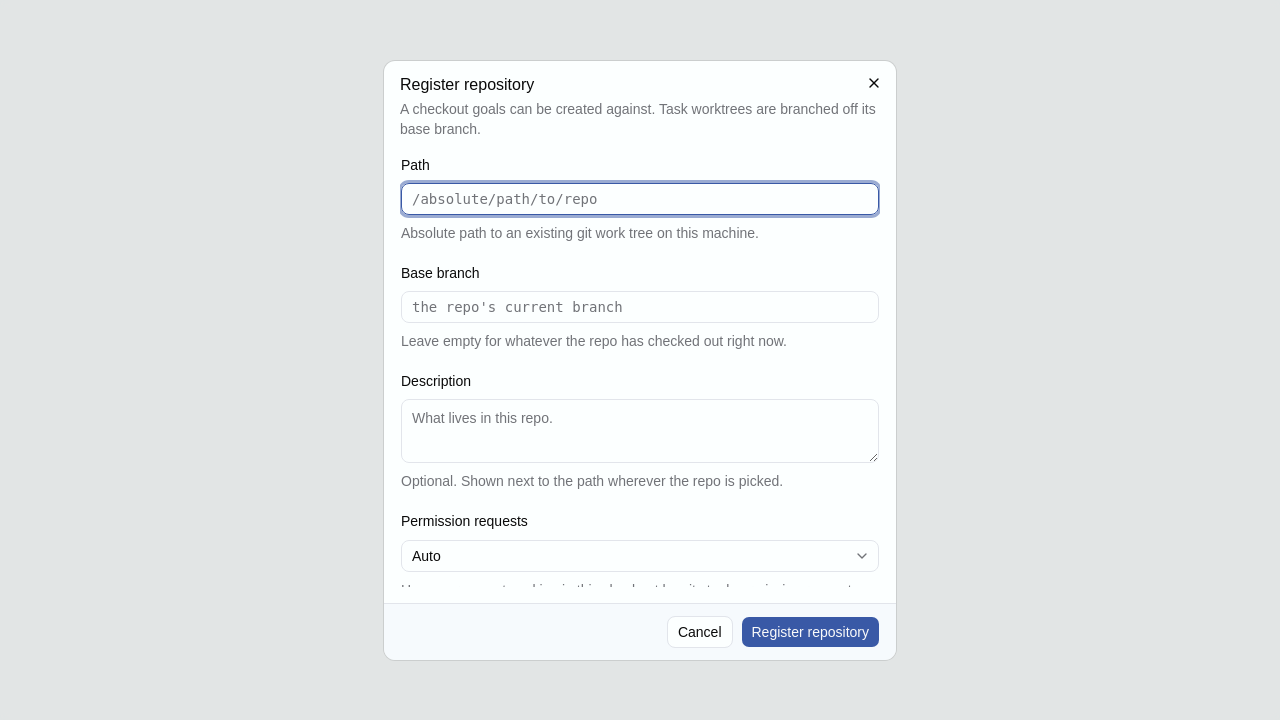
Test case: refuses to register without a workflow picked
Type "/home/me/dev/widgets" into the field labelled "Path" at coordinates (640, 199), box [401,183,879,215]
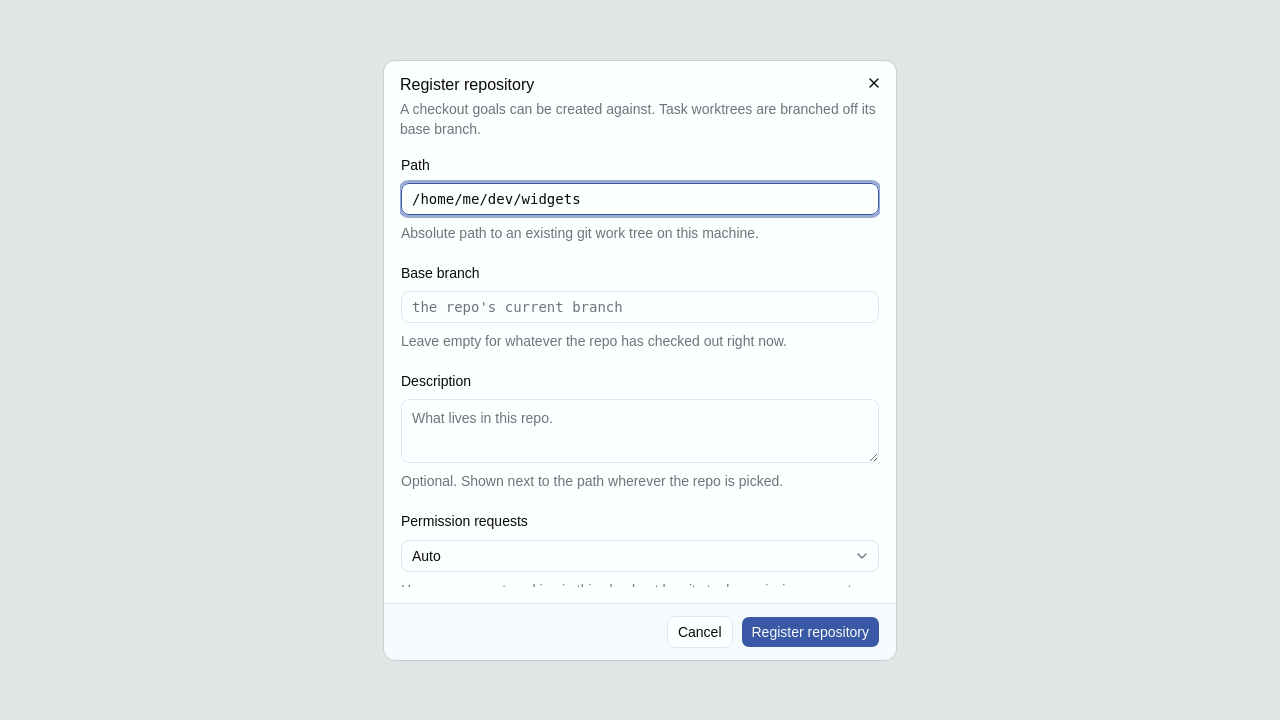
Click the button "Register repository" at coordinates (810, 632), box [740,616,880,648]
(page scrolled)
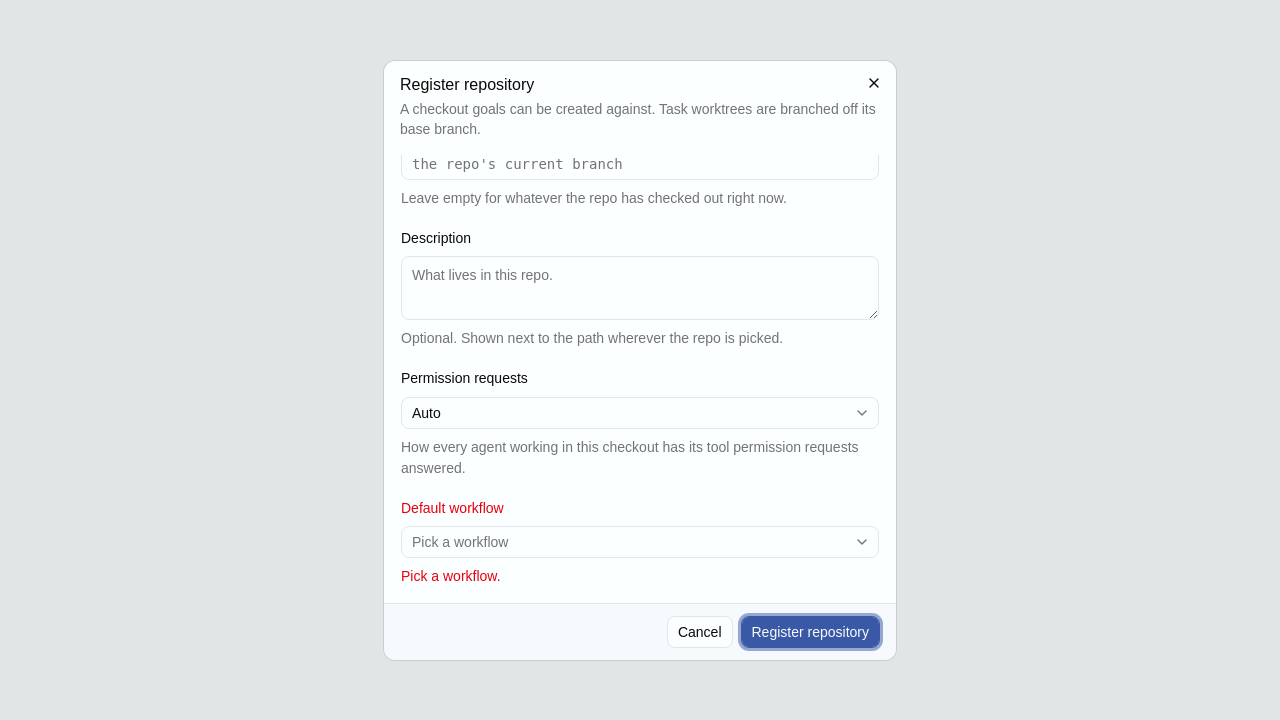
Expected: the text "Pick a workflow." is shown, [401,568,501,584]
